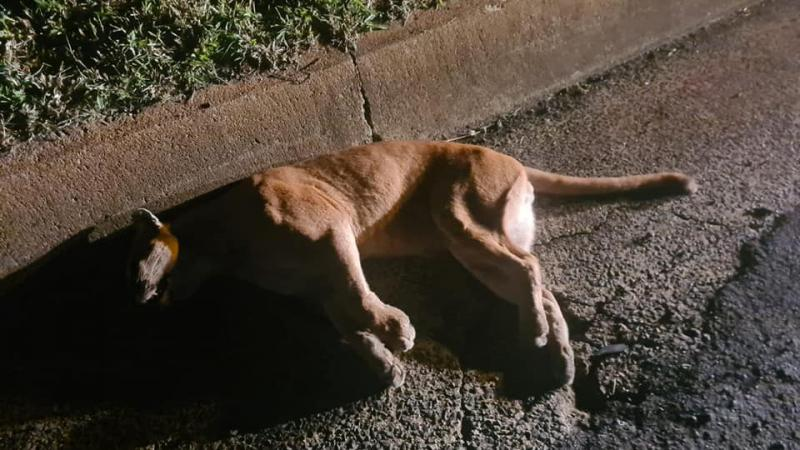OncaParda: (120, 134, 703, 392)
